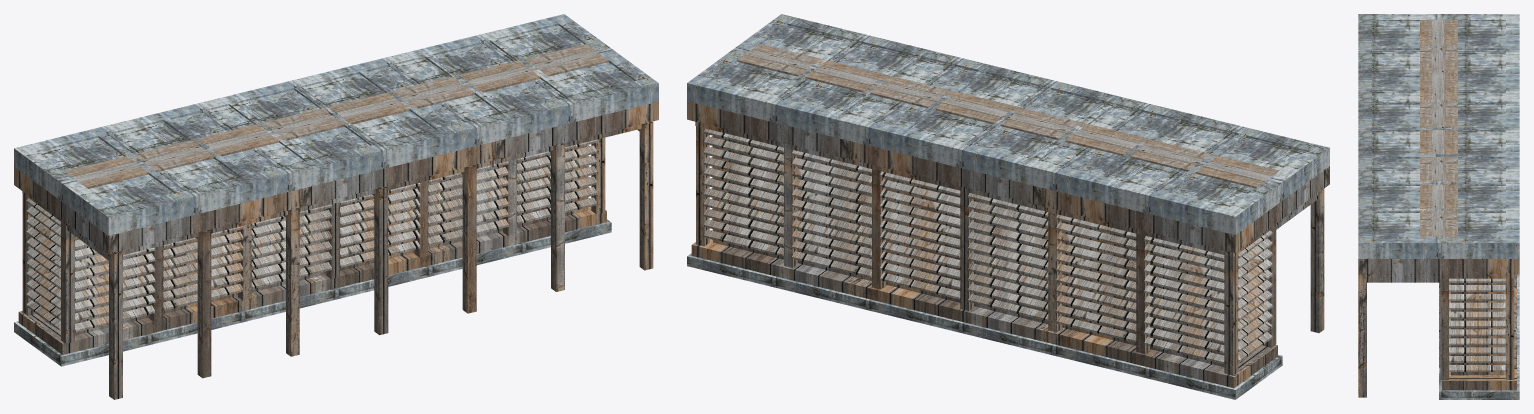
Rendered from roof-ridge-monitor.glb.
The picture shows the model from 3 angles, left to right: view 1: azimuth 30°, elevation 25°; view 2: azimuth 150°, elevation 25°; view 3: azimuth 270°, elevation 25°; orthographic projection. The views are drawn at different scales.
Parts seen in each view (by area): view 1: roof-ridge-monitor; view 2: roof-ridge-monitor; view 3: roof-ridge-monitor.
Part boxes in pixels (box(x1,y1,x2,y2)): roof-ridge-monitor: box(14, 14, 658, 399); roof-ridge-monitor: box(687, 14, 1329, 399); roof-ridge-monitor: box(1358, 14, 1519, 399).
Bounding box in the file's own units: 9.4 × 3 × 2.8.
3 materials, 3 textured.
